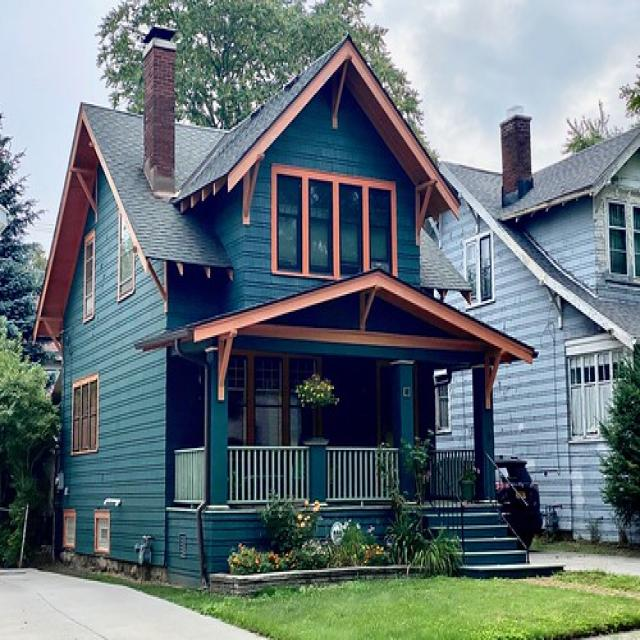Normal_building: (27, 22, 545, 579), (429, 110, 640, 557)
